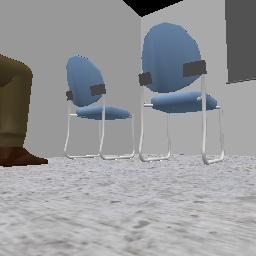scaun: (139, 22, 222, 164), (65, 56, 133, 158)
videoproiector: (225, 0, 255, 82)
